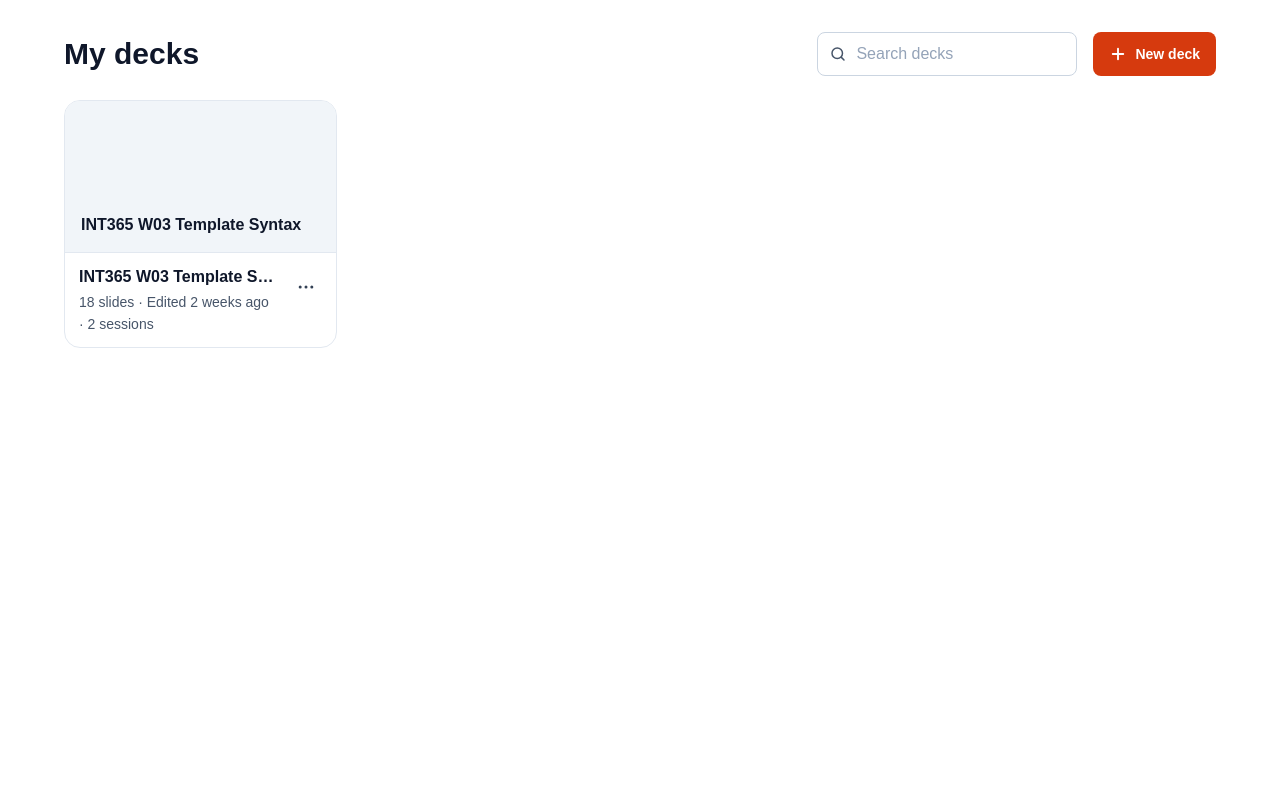
DeckList › explains a refused delete and keeps the deck
The image size is (1280, 800).
Expected: the link "INT365 W03 Template Syntax" is shown, 79,265 -> 276,289
Step 1. Click the button named "Actions for INT365 W03 Template Syntax" → (306, 287), box 284,265 -> 328,309
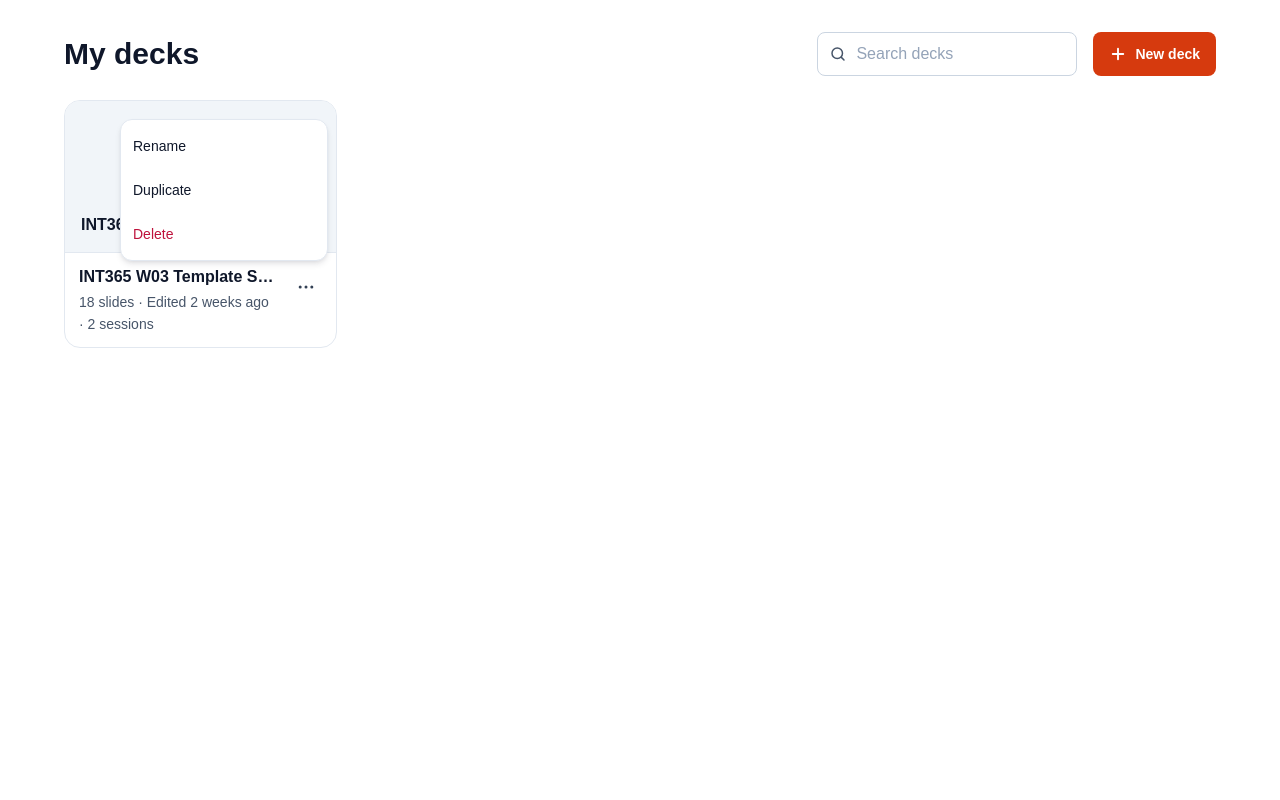
Step 2. Click the button "Delete" → (224, 234), box 121,212 -> 327,256
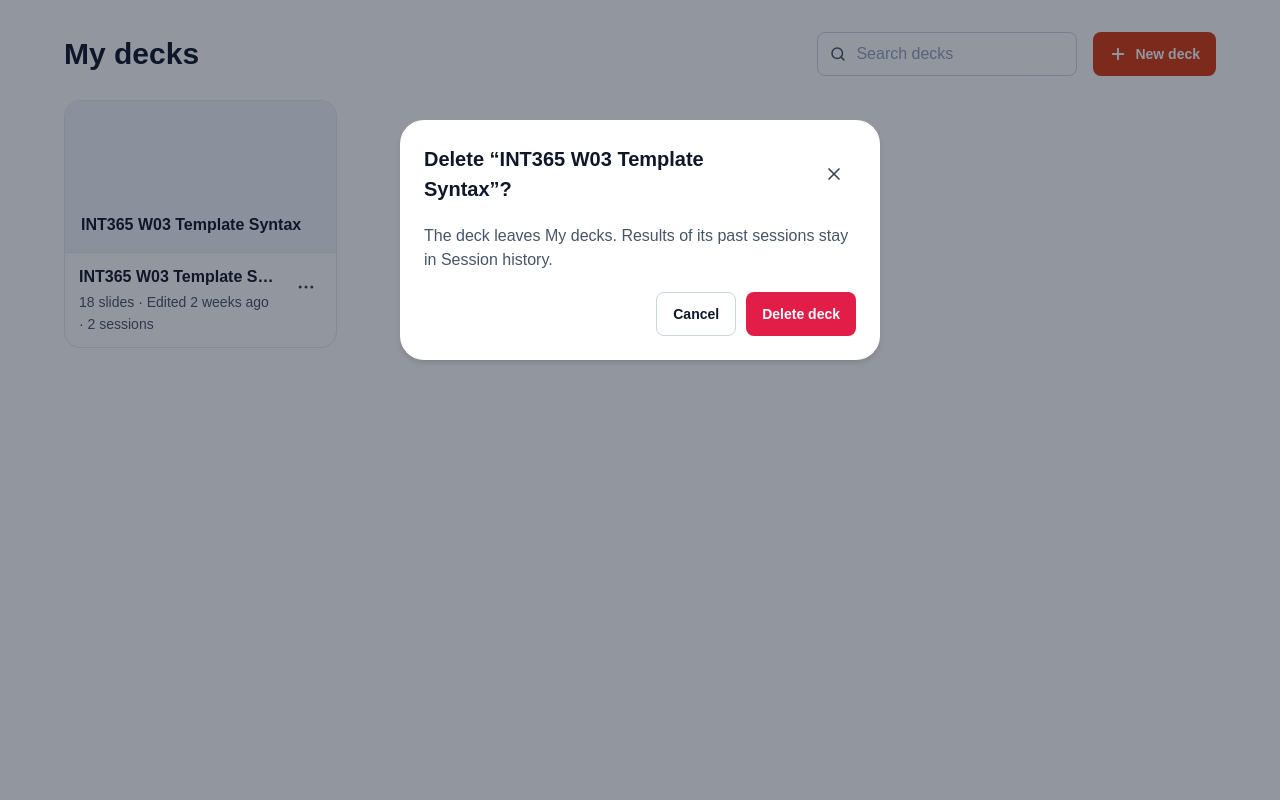
Step 3. Click the button "Delete deck" → (801, 314), box 746,292 -> 856,336
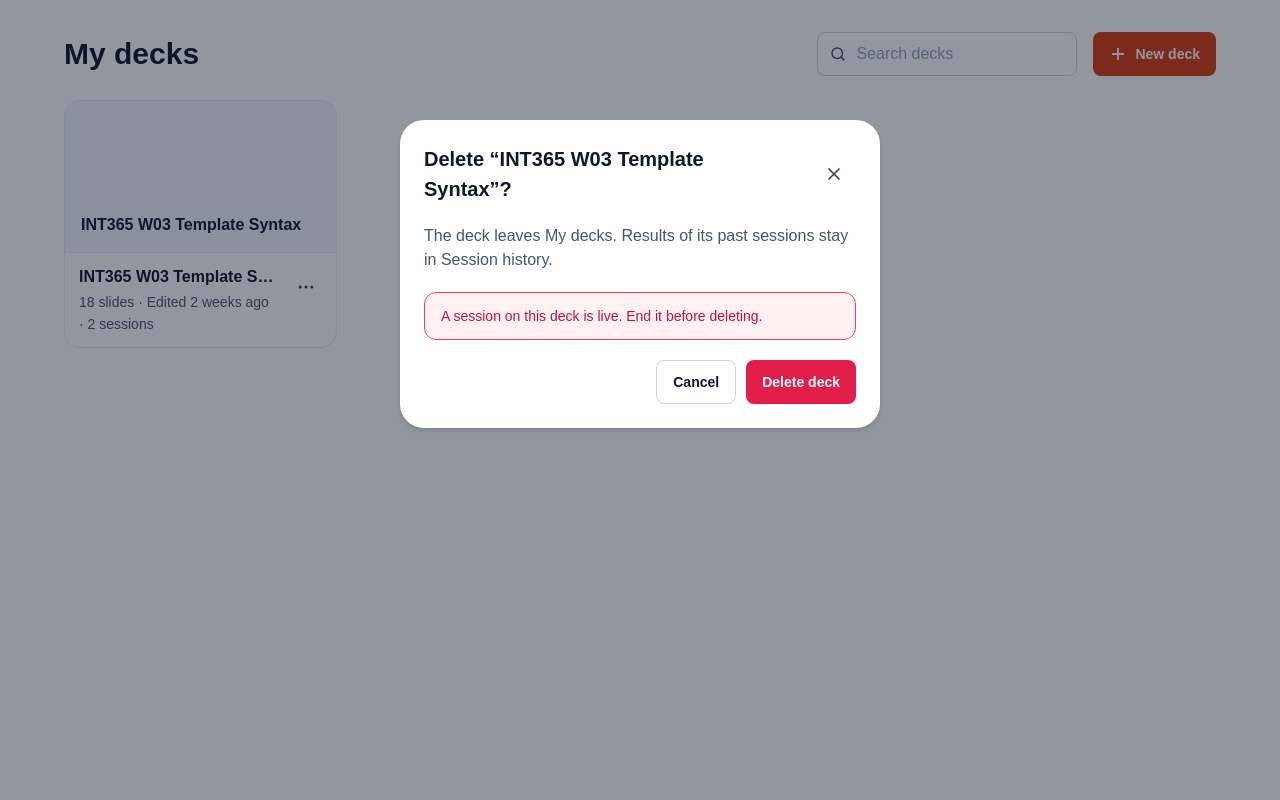
Expected: the link "INT365 W03 Template Syntax" is shown, 79,265 -> 276,289
Expected: the message reads "A session on this deck is live. End it before deleting.", 441,308 -> 762,324
